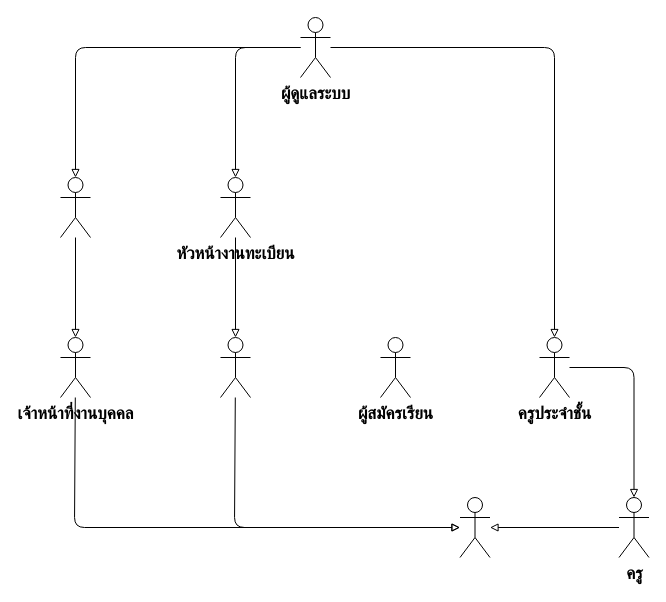
Image size: 666x602. Some labels were removed from this diagram. Here are the shapes that lost their labels. From the top down, the box of each, then its label:
(60, 176, 90, 238): หัวหน้างานบุคคล
(220, 336, 250, 398): เจ้าหน้าที่งานทะเบียน
(459, 496, 490, 558): บุคลากร
